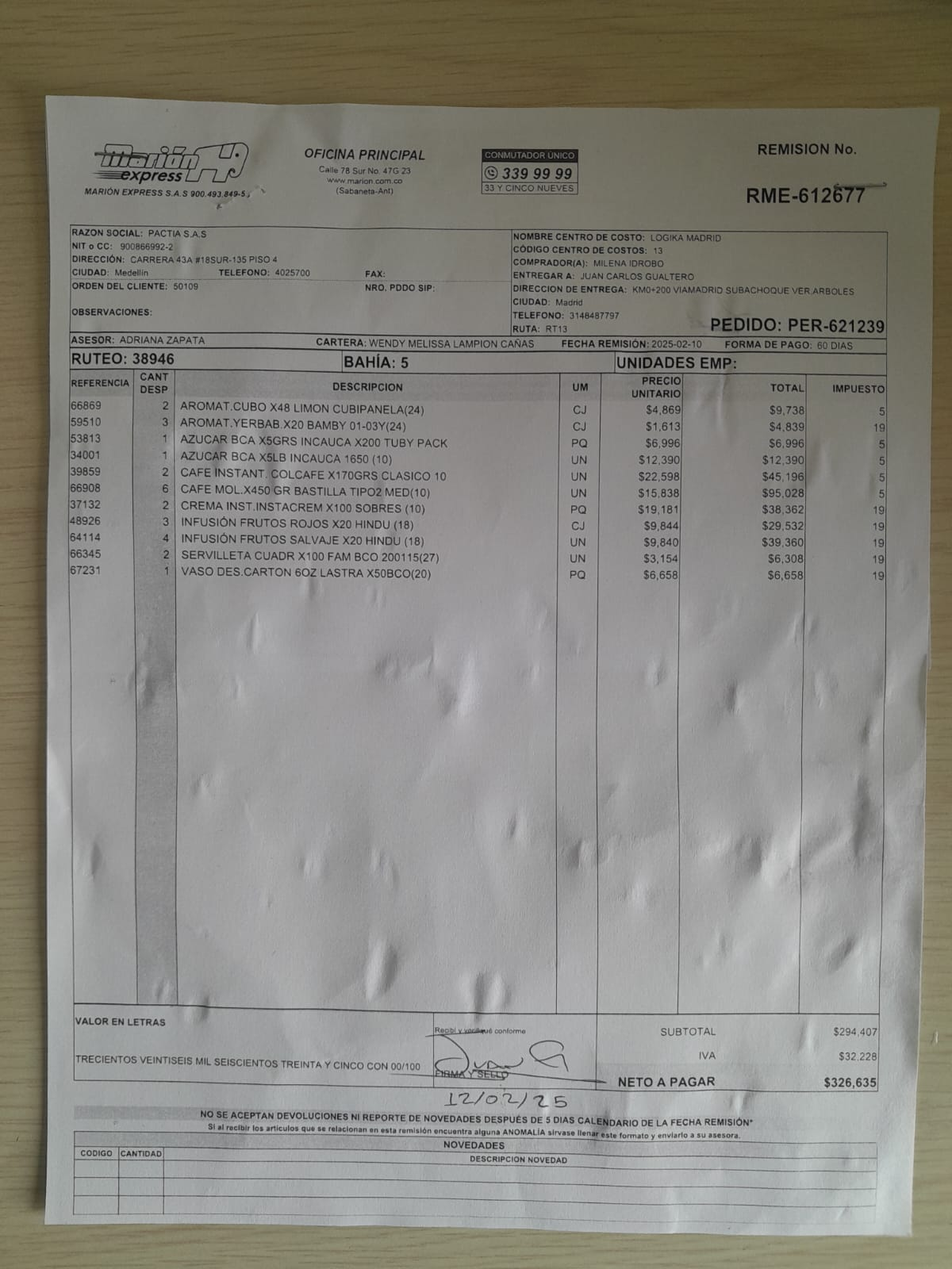Papel: (44, 96, 931, 1242)
